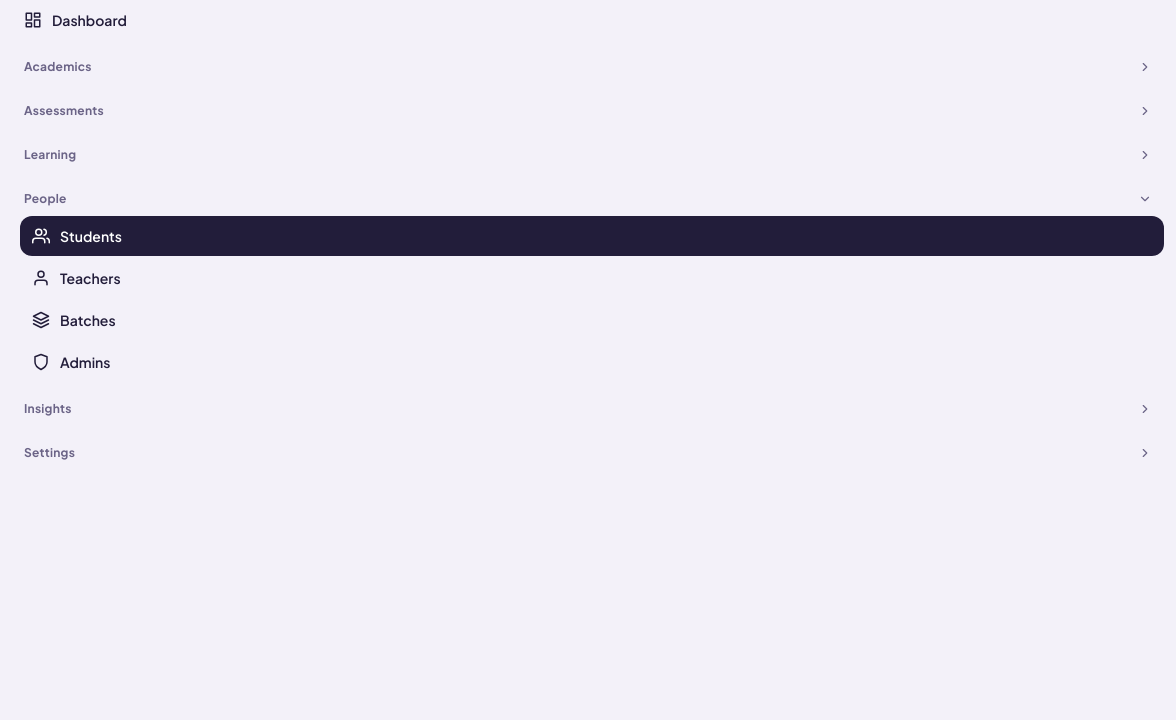
it: tabs, menus, dialogs, states, page root, nav › menu groups collapse; the current page's group is open; links are real links
The image size is (1176, 720).
Click the button with test id "nav-assessments-group-btn" at (64, 110), box [12,94,1164,128]
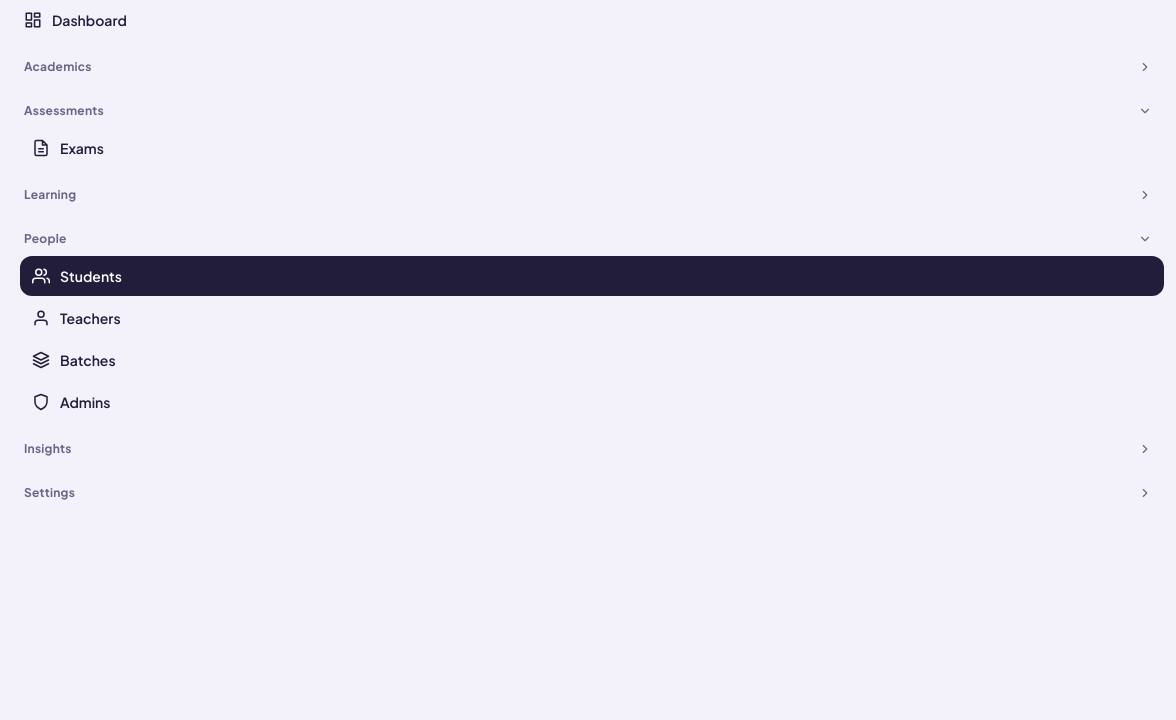
Click the button with test id "nav-academics-group-btn" at (58, 66), box [12,50,1164,84]
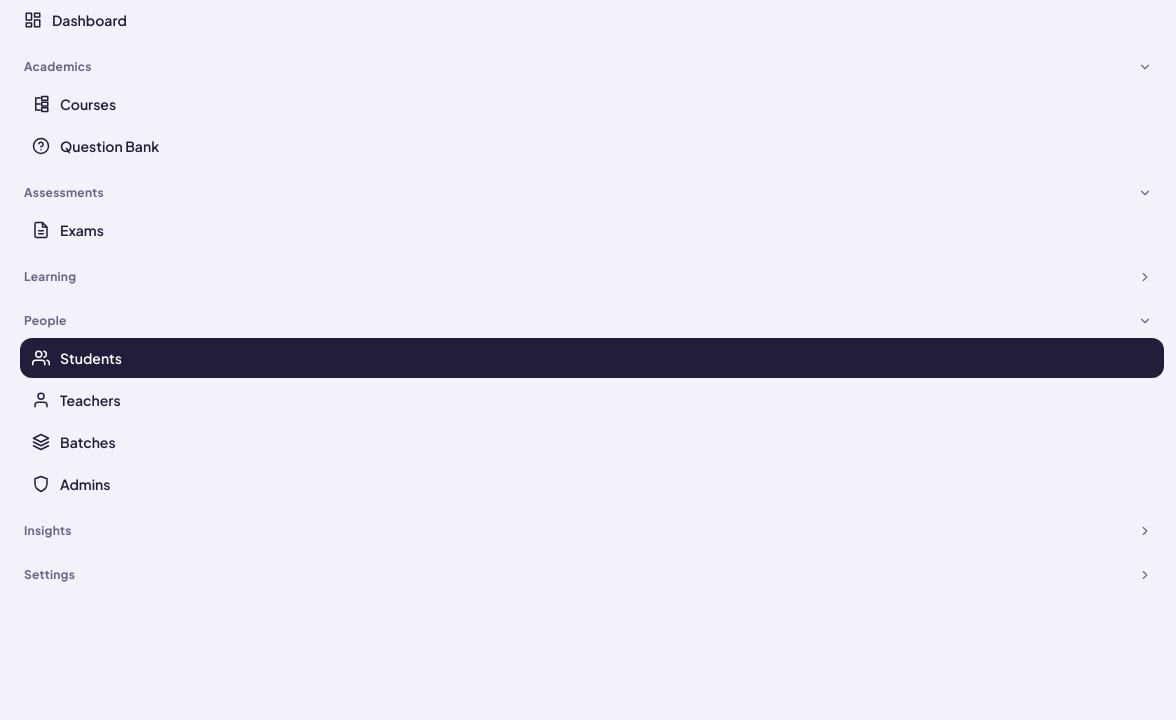
Expected: the link with test id "nav-syllabus-link" reads "Courses", [32,95,116,113]
